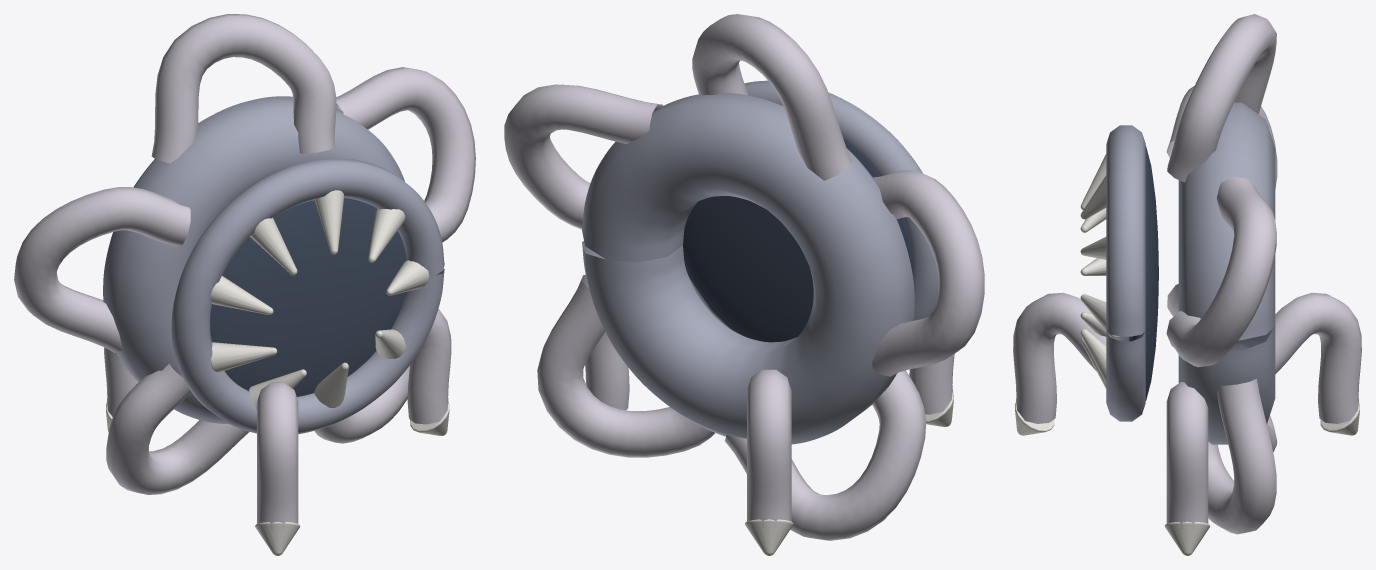
Rendered from bio_spiral_maw_01_near.glb.
3 views of the same model, side by side, from view 1: azimuth 30°, elevation 25°; view 2: azimuth 150°, elevation 25°; view 3: azimuth 270°, elevation 25° (orthographic). The views are drawn at different scales.
Visible parts, largest first — view 1: Raised oral lip, Rear muscular torus, Recessed mouth cavity, Coiling oral limb.001, Coiling oral limb.002, Coiling oral limb, Coiling oral limb.003, Inward tooth, Crooked support.002, Crooked support, Coiling oral limb.004, Crooked support.001 (+1 smaller); view 2: Rear muscular torus, Recessed mouth cavity, Coiling oral limb.002, Coiling oral limb.001, Coiling oral limb.004, Coiling oral limb, Coiling oral limb.003, Crooked support.001, Raised oral lip, Crooked support, Crooked support.002, Contact spur.001; view 3: Rear muscular torus, Raised oral lip, Coiling oral limb, Coiling oral limb.001, Coiling oral limb.004, Crooked support.001, Crooked support.002, Crooked support, Inward tooth, Recessed mouth cavity, Contact spur, Coiling oral limb.002 (+3 smaller).
Part boxes in pixels (bbox=[...]): Raised oral lip: bbox=[171, 158, 444, 434]; Rear muscular torus: bbox=[103, 96, 404, 424]; Recessed mouth cavity: bbox=[210, 198, 406, 396]; Coiling oral limb.001: bbox=[151, 14, 336, 163]; Coiling oral limb.002: bbox=[14, 187, 190, 352]; Coiling oral limb: bbox=[336, 67, 475, 242]; Coiling oral limb.003: bbox=[106, 364, 249, 494]; Inward tooth: bbox=[210, 190, 429, 408]; Crooked support.002: bbox=[257, 382, 298, 529]; Crooked support: bbox=[407, 308, 451, 424]; Coiling oral limb.004: bbox=[314, 365, 409, 443]; Crooked support.001: bbox=[104, 347, 138, 416]; Rear muscular torus: bbox=[582, 93, 914, 444]; Recessed mouth cavity: bbox=[683, 137, 913, 342]; Coiling oral limb.002: bbox=[872, 170, 984, 376]; Coiling oral limb.001: bbox=[692, 14, 851, 180]; Coiling oral limb.004: bbox=[537, 275, 714, 457]; Coiling oral limb: bbox=[504, 84, 663, 229]; Coiling oral limb.003: bbox=[725, 370, 926, 540]; Crooked support.001: bbox=[747, 369, 791, 527]; Raised oral lip: bbox=[690, 80, 938, 329]; Crooked support: bbox=[585, 332, 629, 410]; Crooked support.002: bbox=[909, 354, 954, 414]; Contact spur.001: bbox=[745, 519, 793, 555]; Rear muscular torus: bbox=[1178, 102, 1275, 444]; Raised oral lip: bbox=[1106, 125, 1145, 421]; Coiling oral limb: bbox=[1166, 177, 1276, 367]; Coiling oral limb.001: bbox=[1167, 14, 1276, 182]; Coiling oral limb.004: bbox=[1208, 378, 1276, 534]; Crooked support.001: bbox=[1275, 292, 1361, 423]; Crooked support.002: bbox=[1013, 292, 1106, 423]; Crooked support: bbox=[1166, 381, 1208, 529]; Inward tooth: bbox=[1080, 154, 1121, 388]; Recessed mouth cavity: bbox=[1129, 146, 1158, 400]; Contact spur: bbox=[1165, 521, 1209, 555]; Coiling oral limb.002: bbox=[1166, 86, 1277, 188].
Size of the model in its own units: 2.35 by 2.34 by 1.59.
